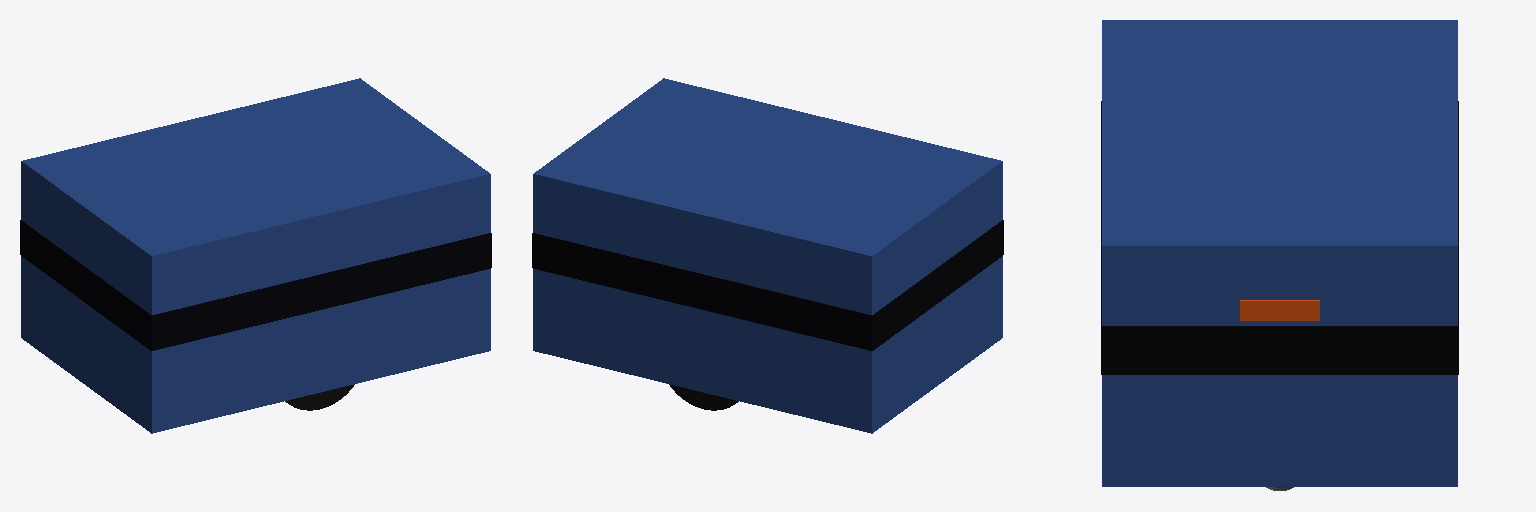
The robot description file, URDF, robot "amr":
<?xml version="1.0" ?>
<!--
  차동 구동 AMR 최상위 xacro (명세 4장 1절 "로봇 모델링"/"센서 시스템 구성", 4장 2절 TF)

  모든 치수/질량/관성/동역학 제한/구동계/센서 사양/토픽·프레임 이름은 최상위 config/*.yaml 에서 읽는다
  (xacro.load_yaml). 여기에 숫자를 중복 기재하지 않는다 — YAML 을 고치면 재빌드 없이 재런치만으로
  반영된다 (런치 시점에 xacro 가 다시 평가됨).

  xacro 인자
    robot_name   Gazebo 모델 이름 + gz 토픽 접두어 (/<robot_name>/...)            기본 amr_01
    prefix       모든 link/joint/frame 이름과 <ignition_frame_id> 의 접두어      기본 ""
                 (다중 로봇: "amr_02/" — docs/architecture/multi_robot.md §2)
    config_dir   robot_params.yaml / sensors.yaml 이 있는 디렉토리
                 기본 "" → $ROS_WS/config (ROS_WS 미설정 시 /ros2_ws/config)
    payload      적재물 종류 none | small | medium | large                       기본 none
                 크기·질량은 robot_params.yaml payload.<종류>.{size, mass} — 데크 위 실제 크기 박스
    payload_mass 적재 질량 [kg] 덮어쓰기. 음수(기본 -1)면 payload 종류의 질량.
                 payload 없이 질량만 주면 그 질량을 담을 수 있는 가장 작은 종류의 박스로 모델링한다
                 (예 payload_mass:=25 → large 박스). 0 이면 적재물 없음.
                 payload / payload_mass 는 스폰 시점에 고정되는 적재물이다 (정적 시험용)
    runtime_payload
                 true(기본)면 주행 중 적재/하역용 DetachableJoint 를 넣는다 (amr_gazebo.xacro "런타임 적재물").
                 화물 모델 <robot_name>_cargo 를 amr_simulation payload_manager_node 가 데크 위에 만들고 붙인다
    self_visibility_bit
                 자기 차체 시각체의 가시성 비트 번호 (0~27). 기본 "" → robot_name 끝 숫자 n 에서
                 4 + (n − 1) mod 20 (amr_01 → 4, amr_05 → 8). amr_gazebo.xacro "자기 차체 제외" 참조

  모듈
    amr_inertial.xacro   관성 텐서 매크로 (YAML 대각 성분 / 박스 해석식)
    amr_materials.xacro  RViz/Gazebo 재질
    amr_base.xacro       base_footprint, base_link, 구동 바퀴, 캐스터, cargo_link(+스폰 시점 적재 박스)
    amr_sensors.xacro    lidar_link, camera_link(+optical 프레임 2개), imu_link
    amr_gazebo.xacro     Gazebo Fortress 시스템 플러그인(런타임 적재 DetachableJoint 포함) + 센서 정의
                         + 자기 차체 가시성 비트

  단독 실행 예
    xacro amr.urdf.xacro config_dir:=/ros2_ws/config robot_name:=amr_02 prefix:=amr_02/ payload:=large | check_urdf /dev/stdin
-->
<robot name="amr">
  <!-- 데크(차체 상면), base_link 기준 -->
  <material name="amr_body">
    <color rgba="0.20 0.32 0.55 1.0"/>
  </material>
  <material name="amr_wheel">
    <color rgba="0.10 0.10 0.10 1.0"/>
  </material>
  <material name="amr_caster">
    <color rgba="0.45 0.45 0.45 1.0"/>
  </material>
  <material name="amr_sensor">
    <color rgba="0.85 0.35 0.10 1.0"/>
  </material>
  <material name="amr_sensor_window">
    <color rgba="0.06 0.06 0.08 1.0"/>
  </material>
  <material name="amr_cargo">
    <color rgba="0.72 0.55 0.30 1.0"/>
  </material>
  <link name="base_footprint"/>
  <joint name="base_footprint_joint" type="fixed">
    <parent link="base_footprint"/>
    <child link="base_link"/>
    <origin rpy="0 0 0" xyz="0 0 0.18"/>
  </joint>
  <!-- 차체: 박스 중심 = base_link 원점. 질량 base_mass 는 차체만 (총 공차 = base + 바퀴 2 + 캐스터 2) -->
  <link name="base_link">
    <visual>
      <origin rpy="0 0 0" xyz="0 0 0"/>
      <geometry>
        <box size="0.6 0.4 0.3"/>
      </geometry>
      <material name="amr_body"/>
    </visual>
    <!--
        LiDAR 창(슬롯) 띠: 스캔 평면 ±3 cm 높이로 차체를 두르는 어두운 창 (외관 표시). 차체보다 2 mm 크게 둬
        면이 겹쳐 깜박이지 않게 한다. 다른 로봇의 LiDAR 에는 차체 외곽으로 보인다 (자기 LiDAR 는 가시성 비트로 제외).
      -->
    <visual>
      <origin rpy="0 0 0" xyz="0 0 0.02"/>
      <geometry>
        <box size="0.602 0.402 0.06"/>
      </geometry>
      <material name="amr_sensor_window"/>
    </visual>
    <collision>
      <origin rpy="0 0 0" xyz="0 0 0"/>
      <geometry>
        <box size="0.6 0.4 0.3"/>
      </geometry>
    </collision>
    <inertial>
      <origin rpy="0 0 0" xyz="0 0 0"/>
      <mass value="45.0"/>
      <inertia ixx="0.9375" ixy="0.0" ixz="0.0" iyy="1.6875" iyz="0.0" izz="1.95"/>
    </inertial>
  </link>
  <joint name="left_wheel_joint" type="continuous">
    <parent link="base_link"/>
    <child link="left_wheel_link"/>
    <origin rpy="0 0 0" xyz="0 0.18 -0.09749999999999999"/>
    <axis xyz="0 1 0"/>
    <!-- 모터·감속기 한계 (robot_params.yaml drive). DiffDrive 의 바퀴 속도 서보가 이 토크 이상을 못 낸다 -->
    <limit effort="3.0" velocity="28.0"/>
  </joint>
  <link name="left_wheel_link">
    <visual>
      <origin rpy="1.5707963267948966 0 0" xyz="0 0 0"/>
      <geometry>
        <cylinder length="0.035" radius="0.0825"/>
      </geometry>
      <material name="amr_wheel"/>
    </visual>
    <!-- 충돌은 얇은 원판 (wheel_contact_width, amr.urdf.xacro 주석) — 접지점을 바퀴 중심면에 고정 -->
    <collision>
      <origin rpy="1.5707963267948966 0 0" xyz="0 0 0"/>
      <geometry>
        <cylinder length="0.002" radius="0.0825"/>
      </geometry>
    </collision>
    <inertial>
      <origin rpy="0 0 0" xyz="0 0 0"/>
      <mass value="1.0"/>
      <inertia ixx="0.0018" ixy="0.0" ixz="0.0" iyy="0.0034" iyz="0.0" izz="0.0018"/>
    </inertial>
  </link>
  <joint name="right_wheel_joint" type="continuous">
    <parent link="base_link"/>
    <child link="right_wheel_link"/>
    <origin rpy="0 0 0" xyz="0 -0.18 -0.09749999999999999"/>
    <axis xyz="0 1 0"/>
    <!-- 모터·감속기 한계 (robot_params.yaml drive). DiffDrive 의 바퀴 속도 서보가 이 토크 이상을 못 낸다 -->
    <limit effort="3.0" velocity="28.0"/>
  </joint>
  <link name="right_wheel_link">
    <visual>
      <origin rpy="1.5707963267948966 0 0" xyz="0 0 0"/>
      <geometry>
        <cylinder length="0.035" radius="0.0825"/>
      </geometry>
      <material name="amr_wheel"/>
    </visual>
    <!-- 충돌은 얇은 원판 (wheel_contact_width, amr.urdf.xacro 주석) — 접지점을 바퀴 중심면에 고정 -->
    <collision>
      <origin rpy="1.5707963267948966 0 0" xyz="0 0 0"/>
      <geometry>
        <cylinder length="0.002" radius="0.0825"/>
      </geometry>
    </collision>
    <inertial>
      <origin rpy="0 0 0" xyz="0 0 0"/>
      <mass value="1.0"/>
      <inertia ixx="0.0018" ixy="0.0" ixz="0.0" iyy="0.0034" iyz="0.0" izz="0.0018"/>
    </inertial>
  </link>
  <joint name="front_caster_joint" type="fixed">
    <parent link="base_link"/>
    <child link="front_caster_link"/>
    <origin rpy="0 0 0" xyz="0.24 0 -0.15"/>
  </joint>
  <link name="front_caster_link">
    <visual>
      <geometry>
        <sphere radius="0.03"/>
      </geometry>
      <material name="amr_caster"/>
    </visual>
    <collision>
      <geometry>
        <sphere radius="0.03"/>
      </geometry>
    </collision>
    <inertial>
      <origin rpy="0 0 0" xyz="0 0 0"/>
      <mass value="0.3"/>
      <inertia ixx="0.000108" ixy="0.0" ixz="0.0" iyy="0.000108" iyz="0.0" izz="0.000108"/>
    </inertial>
  </link>
  <joint name="rear_caster_joint" type="fixed">
    <parent link="base_link"/>
    <child link="rear_caster_link"/>
    <origin rpy="0 0 0" xyz="-0.24 0 -0.15"/>
  </joint>
  <link name="rear_caster_link">
    <visual>
      <geometry>
        <sphere radius="0.03"/>
      </geometry>
      <material name="amr_caster"/>
    </visual>
    <collision>
      <geometry>
        <sphere radius="0.03"/>
      </geometry>
    </collision>
    <inertial>
      <origin rpy="0 0 0" xyz="0 0 0"/>
      <mass value="0.3"/>
      <inertia ixx="0.000108" ixy="0.0" ixz="0.0" iyy="0.000108" iyz="0.0" izz="0.000108"/>
    </inertial>
  </link>
  <!--
      적재물. 스폰 시점의 xacro 인자(payload / payload_mass)로 정해진다 — 크기·질량은 robot_params.yaml payload.<종류>.
      명세 8장 물품 표의 실제 크기 박스를 데크 중앙(x = 0, 구동축 위)에 올리고 균질 박스 관성을 준다. fixed 조인트라
      sdformat 이 URDF 루트 링크(base_footprint)에 질량·관성·무게중심을 합산해 Gazebo 동역학에 그대로 들어간다.
      바퀴 토크 한계(drive.wheel_effort_limit)가 있으므로 합산 질량이 가속·제동 응답을 바꾼다 (robot_params.yaml drive 실측).
      적재물이 없으면 형상·관성 없는 빈 프레임만 남는다 (TF 의 cargo_link 는 항상 있다).
      이것은 스폰 시점에 고정되는 적재물이다. 주행 중 적재/하역(재스폰 없이)은 이 링크가 아니라 별도 화물 모델
      <robot_name>_cargo 를 DetachableJoint 로 붙였다 떼는 방식이다 (amr_gazebo.xacro "런타임 적재물",
      amr_simulation payload_manager_node). 둘을 함께 쓰면 질량이 더해지므로 런타임 적재를 쓸 때는 payload 를 비운다.
    -->
  <joint name="cargo_joint" type="fixed">
    <parent link="base_link"/>
    <child link="cargo_link"/>
    <origin rpy="0 0 0" xyz="0 0 0.15"/>
  </joint>
  <link name="cargo_link">
  </link>
  <!-- 2D LiDAR -->
  <joint name="lidar_joint" type="fixed">
    <parent link="base_link"/>
    <child link="lidar_link"/>
    <origin rpy="0.0 0.0 0.0" xyz="0.15 0.0 0.02"/>
  </joint>
  <link name="lidar_link">
    <visual>
      <geometry>
        <cylinder length="0.04" radius="0.035"/>
      </geometry>
      <material name="amr_sensor"/>
    </visual>
  </link>
  <!-- RGB + Depth 카메라 모듈 본체 프레임 -->
  <joint name="camera_joint" type="fixed">
    <parent link="base_link"/>
    <child link="camera_link"/>
    <origin rpy="0.0 0.0 0.0" xyz="0.29 0.0 0.07"/>
  </joint>
  <link name="camera_link">
    <visual>
      <geometry>
        <box size="0.025 0.09 0.025"/>
      </geometry>
      <material name="amr_sensor"/>
    </visual>
  </link>
  <!-- optical 프레임: rgb/depth 블록의 link_frame_id(= camera_link) 의 고정 자식 -->
  <joint name="camera_optical_joint" type="fixed">
    <parent link="camera_link"/>
    <child link="camera_optical_frame"/>
    <origin rpy="-1.5707963 0.0 -1.5707963" xyz="0 0 0"/>
  </joint>
  <link name="camera_optical_frame"/>
  <joint name="camera_depth_optical_joint" type="fixed">
    <parent link="camera_link"/>
    <child link="camera_depth_optical_frame"/>
    <origin rpy="-1.5707963 0.0 -1.5707963" xyz="0 0 0"/>
  </joint>
  <link name="camera_depth_optical_frame"/>
  <!-- IMU -->
  <joint name="imu_joint" type="fixed">
    <parent link="base_link"/>
    <child link="imu_link"/>
    <origin rpy="0.0 0.0 0.0" xyz="0.0 0.0 0.1"/>
  </joint>
  <link name="imu_link">
    <visual>
      <geometry>
        <box size="0.02 0.02 0.008"/>
      </geometry>
      <material name="amr_sensor"/>
    </visual>
  </link>
  <gazebo reference="base_link">
    <visual>
      <visibility_flags>16</visibility_flags>
    </visual>
  </gazebo>
  <gazebo reference="left_wheel_link">
    <visual>
      <visibility_flags>16</visibility_flags>
    </visual>
  </gazebo>
  <gazebo reference="right_wheel_link">
    <visual>
      <visibility_flags>16</visibility_flags>
    </visual>
  </gazebo>
  <gazebo reference="front_caster_link">
    <visual>
      <visibility_flags>16</visibility_flags>
    </visual>
  </gazebo>
  <gazebo reference="rear_caster_link">
    <visual>
      <visibility_flags>16</visibility_flags>
    </visual>
  </gazebo>
  <gazebo reference="lidar_link">
    <visual>
      <visibility_flags>16</visibility_flags>
    </visual>
  </gazebo>
  <gazebo reference="camera_link">
    <visual>
      <visibility_flags>16</visibility_flags>
    </visual>
  </gazebo>
  <gazebo reference="imu_link">
    <visual>
      <visibility_flags>16</visibility_flags>
    </visual>
  </gazebo>
  <!-- ===== 접촉 마찰 (robot_params.yaml robot.*_friction_coeff). 캐스터는 낮은 mu 로 미끄러지는 구 근사 ===== -->
  <gazebo reference="left_wheel_link">
    <mu1>1.0</mu1>
    <mu2>1.0</mu2>
  </gazebo>
  <gazebo reference="right_wheel_link">
    <mu1>1.0</mu1>
    <mu2>1.0</mu2>
  </gazebo>
  <gazebo reference="front_caster_link">
    <mu1>0.05</mu1>
    <mu2>0.05</mu2>
  </gazebo>
  <gazebo reference="rear_caster_link">
    <mu1>0.05</mu1>
    <mu2>0.05</mu2>
  </gazebo>
  <gazebo>
    <!--
        차동 구동 (모터 드라이버 = 컨트롤러 한계). 속도/가속도 제한은 robot_params.yaml limits (Fortress DiffDrive 의
        min/max_linear|angular_velocity|acceleration). 물리 한계는 바퀴 조인트 토크/속도 한계(drive.*, amr_base.xacro)가
        따로 걸어 적재 질량이 크면 이 한계보다 늦게 가속·제동한다.
        감속 한계(min_linear_acceleration)는 정상 감속 1.0 이 아니라 비상 감속 limits.emergency_deceleration 이다 (결정):
        정상 감속 프로파일은 velocity_profiler_node 가 지키고, E-Stop 은 safety_node 가 프로파일을 우회해 0 을 내므로
        여기서 1.0 으로 묶으면 E-Stop 도 2.0 m/s 에서 2 m 를 미끄러진다. 한계가 부호 기준이라 후진 가속에도 적용된다.
        odom 은 /<robot_name>/odom_gz 로만 내보내며(비교용), 이 플러그인의 tf(gz /<robot_name>/odom_gz/tf)는
        기본으로 ROS 에 브리지하지 않는다 — odom→base_footprint TF 는 EKF 가 발행한다. EKF 가 생기기 전 초기 매핑에만
        spawn.launch.py bridge_odom_tf:=true 로 /tf 에 넘긴다 (EKF 와 동시 사용 금지).

        저크 제한(max_linear_jerk)은 여기 넣지 않는다 (결정). Fortress DiffDrive 의 SpeedLimiter 는 목표를
        내다보지 않고 저크만 자르기 때문에 목표 속도 근처에서 감속을 늦게 시작해 ±a²/(2j) 로 계속 진동한다
        (a = 1.0, j = 2.0 → ±0.25 m/s, 주기 ≈ 2 s). 실측(지면 진실): 0.5 m/s 지령에 0.257 ~ 0.745 m/s 로 계속
        진동, 0 지령에서도 |v| 최대 0.245 m/s 로 앞뒤로 흔들려 멈추지 않음. 저크 제한을 빼면 0.500 m/s 정확히
        유지, 정지 잔속 0. 저크 제한 S-curve 는 명세 5장 구현 대상인 amr_navigation velocity_profiler_node
        (cmd_vel_nav → cmd_vel_smoothed)가 담당한다.
        재현하려면 아래에 <max_linear_jerk>/<min_linear_jerk> 를 limits.max_linear_jerk 로 다시 넣으면 된다.
      -->
    <plugin filename="ignition-gazebo-diff-drive-system" name="ignition::gazebo::systems::DiffDrive">
      <left_joint>left_wheel_joint</left_joint>
      <right_joint>right_wheel_joint</right_joint>
      <wheel_separation>0.36</wheel_separation>
      <wheel_radius>0.0825</wheel_radius>
      <topic>/amr_01/cmd_vel</topic>
      <odom_topic>/amr_01/odom_gz</odom_topic>
      <tf_topic>/amr_01/odom_gz/tf</tf_topic>
      <frame_id>odom</frame_id>
      <child_frame_id>base_footprint</child_frame_id>
      <odom_publish_frequency>50.0</odom_publish_frequency>
      <max_linear_velocity>2.0</max_linear_velocity>
      <min_linear_velocity>-0.5</min_linear_velocity>
      <max_angular_velocity>1.5</max_angular_velocity>
      <min_angular_velocity>-1.5</min_angular_velocity>
      <max_linear_acceleration>1.0</max_linear_acceleration>
      <min_linear_acceleration>-3.0</min_linear_acceleration>
      <max_angular_acceleration>2.0</max_angular_acceleration>
      <min_angular_acceleration>-2.0</min_angular_acceleration>
    </plugin>
    <!-- 바퀴 관절 상태 → /<robot_name>/joint_states (robot_state_publisher 바퀴 TF + 팀 엔코더 노드 입력) -->
    <plugin filename="ignition-gazebo-joint-state-publisher-system" name="ignition::gazebo::systems::JointStatePublisher">
      <topic>/amr_01/joint_states</topic>
      <joint_name>left_wheel_joint</joint_name>
      <joint_name>right_wheel_joint</joint_name>
    </plugin>
    <!-- 지면 진실(ground truth) 오도메트리 — 위치 추정 평가 전용 (header.frame_id = world, child = base_footprint) -->
    <plugin filename="ignition-gazebo-odometry-publisher-system" name="ignition::gazebo::systems::OdometryPublisher">
      <odom_frame>world</odom_frame>
      <robot_base_frame>base_footprint</robot_base_frame>
      <odom_topic>/amr_01/ground_truth/odom</odom_topic>
      <tf_topic>/amr_01/ground_truth/tf_unused</tf_topic>
      <odom_publish_frequency>50.0</odom_publish_frequency>
      <dimensions>3</dimensions>
    </plugin>
  </gazebo>
  <gazebo>
    <plugin filename="ignition-gazebo-detachable-joint-system" name="ignition::gazebo::systems::DetachableJoint">
      <parent_link>base_footprint</parent_link>
      <child_model>amr_01_cargo</child_model>
      <child_link>link</child_link>
      <attach_topic>/amr_01/cargo/attach</attach_topic>
      <detach_topic>/amr_01/cargo/detach</detach_topic>
      <output_topic>/amr_01/cargo/state</output_topic>
      <suppress_child_warning>true</suppress_child_warning>
    </plugin>
  </gazebo>
  <!-- ===== 2D LiDAR (gpu_lidar) ===== -->
  <!-- angle_max 는 YAML 값을 그대로 쓴다: samples 개 빔이 [angle_min, angle_max] 를 등분한다
         (증분 = (max-min)/(samples-1)). 0.5° 정확 증분은 YAML 쪽에서 angle_max = π - 2π/720 로 맞춘다 -->
  <gazebo reference="lidar_link">
    <sensor name="lidar" type="gpu_lidar">
      <pose>0 0 0 0 0 0</pose>
      <topic>/amr_01/scan</topic>
      <update_rate>10.0</update_rate>
      <always_on>true</always_on>
      <visualize>false</visualize>
      <ignition_frame_id>lidar_link</ignition_frame_id>
      <lidar>
        <scan>
          <horizontal>
            <samples>720</samples>
            <resolution>1</resolution>
            <min_angle>-3.14159265</min_angle>
            <max_angle>3.13286601</max_angle>
          </horizontal>
        </scan>
        <range>
          <min>0.1</min>
          <max>25.0</max>
        </range>
        <!-- SDF 1.9: lidar/camera 의 noise 는 <type> 자식 요소 (IMU 의 noise 만 type 속성) -->
        <noise>
          <type>gaussian</type>
          <mean>0.0</mean>
          <stddev>0.03</stddev>
        </noise>
        <!-- 자기 차체 제외 (머리말). 차체 안 슬롯에 있으므로 이것이 없으면 모든 빔이 차체 안쪽 면에 맞는다 -->
        <visibility_mask>4294967279</visibility_mask>
      </lidar>
    </sensor>
  </gazebo>
  <!-- ===== 카메라 (RGB + Depth, 같은 camera_link 에 센서 2개) ===== -->
  <!--
      ignition_frame_id 는 optical 프레임 → 이미지/camera_info header 가 REP-103 광학 규약과 일치.
      Fortress 함정(실측): depth_camera 의 점군(<topic>/points)은 header.frame_id 가 optical 인데 좌표는 센서
      본체 규약(x 전방, y 좌, z 상)으로 채워진다 — 전방 5 m 벽이 점군에서 x≈4.8 로 나온다. 그대로 TF 변환하면
      90° 돌아간다. 점군은 깊이 이미지 + camera_info 로 프로젝트가 직접 만들고(명세 2장), 시뮬레이터 점군을
      쓰려면 소비 측에서 frame_id 를 camera_link 로 바꿔 읽는다 (sensors.yaml depth_camera 주석 참조).
    -->
  <gazebo reference="camera_link">
    <sensor name="rgb_camera" type="camera">
      <pose>0 0 0 0 0 0</pose>
      <topic>/amr_01/camera/image_raw</topic>
      <update_rate>30.0</update_rate>
      <always_on>true</always_on>
      <visualize>false</visualize>
      <ignition_frame_id>camera_optical_frame</ignition_frame_id>
      <camera name="rgb_camera">
        <horizontal_fov>1.518436</horizontal_fov>
        <image>
          <width>640</width>
          <height>480</height>
          <format>R8G8B8</format>
        </image>
        <clip>
          <near>0.05</near>
          <far>100.0</far>
        </clip>
        <!-- 렌즈가 전면 창 1 cm 안쪽이라 차체 전면이 near clip 안에 들지만, 자기 차체는 규칙대로 뺀다 -->
        <visibility_mask>4294967279</visibility_mask>
        <noise>
          <type>gaussian</type>
          <mean>0.0</mean>
          <stddev>0.062</stddev>
        </noise>
      </camera>
    </sensor>
    <!-- 깊이 노이즈: Fortress 는 거리 무관 가우시안만 지원 → noise_base 만 센서에 적용하고,
           거리 제곱 항(noise_quadratic_coeff)은 amr_perception 깊이 전처리 노드가 더한다 (sensors.yaml 결정) -->
    <sensor name="depth_camera" type="depth_camera">
      <pose>0 0 0 0 0 0</pose>
      <topic>/amr_01/camera/depth/image_raw</topic>
      <update_rate>15.0</update_rate>
      <always_on>true</always_on>
      <visualize>false</visualize>
      <ignition_frame_id>camera_depth_optical_frame</ignition_frame_id>
      <camera name="depth_camera">
        <horizontal_fov>1.518436</horizontal_fov>
        <image>
          <width>640</width>
          <height>480</height>
          <format>R_FLOAT32</format>
        </image>
        <clip>
          <near>0.2</near>
          <far>10.0</far>
        </clip>
        <visibility_mask>4294967279</visibility_mask>
        <depth_camera>
          <clip>
            <near>0.2</near>
            <far>10.0</far>
          </clip>
        </depth_camera>
        <noise>
          <type>gaussian</type>
          <mean>0.0</mean>
          <stddev>0.005</stddev>
        </noise>
      </camera>
    </sensor>
  </gazebo>
  <!-- ===== IMU ===== -->
  <!--
      enable_orientation=true 로 둔다(결정): Fortress IMU 의 orientation 은 노이즈/드리프트 없는 지면 진실이며,
      기준은 월드가 아니라 센서의 "스폰 시점 자세"다 (yaw=1.57 로 스폰한 로봇도 초기 yaw 0 으로 나온다 — 실측).
      false 로 끄면 브리지가 w=0 인 무효 쿼터니언을 내보내 소비 노드가 깨질 수 있어 켜 둔다.
      따라서 EKF(config/ekf.yaml) 는 imu 의 roll/pitch/yaw 를 융합하면 안 되고 angular_velocity /
      linear_acceleration 만 써야 한다. 노이즈+바이어스 모델은 그 두 값에만 적용된다.
      참고: SDF 월드 기본 중력은 9.8 m/s² (9.80665 아님) — 정지 시 accel z 평균 ≈ 9.8 + bias.
    -->
  <gazebo reference="imu_link">
    <sensor name="imu" type="imu">
      <pose>0 0 0 0 0 0</pose>
      <topic>/amr_01/imu/data_raw</topic>
      <update_rate>100.0</update_rate>
      <always_on>true</always_on>
      <visualize>false</visualize>
      <ignition_frame_id>imu_link</ignition_frame_id>
      <imu>
        <enable_orientation>true</enable_orientation>
        <angular_velocity>
          <x>
            <noise type="gaussian">
              <mean>0.0</mean>
              <stddev>0.0002</stddev>
              <bias_mean>0.01</bias_mean>
              <bias_stddev>7.5e-06</bias_stddev>
              <dynamic_bias_stddev>0.0</dynamic_bias_stddev>
              <dynamic_bias_correlation_time>300.0</dynamic_bias_correlation_time>
            </noise>
          </x>
          <y>
            <noise type="gaussian">
              <mean>0.0</mean>
              <stddev>0.0002</stddev>
              <bias_mean>0.01</bias_mean>
              <bias_stddev>7.5e-06</bias_stddev>
              <dynamic_bias_stddev>0.0</dynamic_bias_stddev>
              <dynamic_bias_correlation_time>300.0</dynamic_bias_correlation_time>
            </noise>
          </y>
          <z>
            <noise type="gaussian">
              <mean>0.0</mean>
              <stddev>0.0002</stddev>
              <bias_mean>0.01</bias_mean>
              <bias_stddev>7.5e-06</bias_stddev>
              <dynamic_bias_stddev>0.0</dynamic_bias_stddev>
              <dynamic_bias_correlation_time>300.0</dynamic_bias_correlation_time>
            </noise>
          </z>
        </angular_velocity>
        <linear_acceleration>
          <x>
            <noise type="gaussian">
              <mean>0.0</mean>
              <stddev>0.017</stddev>
              <bias_mean>0.1</bias_mean>
              <bias_stddev>0.001</bias_stddev>
              <dynamic_bias_stddev>0.0</dynamic_bias_stddev>
              <dynamic_bias_correlation_time>300.0</dynamic_bias_correlation_time>
            </noise>
          </x>
          <y>
            <noise type="gaussian">
              <mean>0.0</mean>
              <stddev>0.017</stddev>
              <bias_mean>0.1</bias_mean>
              <bias_stddev>0.001</bias_stddev>
              <dynamic_bias_stddev>0.0</dynamic_bias_stddev>
              <dynamic_bias_correlation_time>300.0</dynamic_bias_correlation_time>
            </noise>
          </y>
          <z>
            <noise type="gaussian">
              <mean>0.0</mean>
              <stddev>0.017</stddev>
              <bias_mean>0.1</bias_mean>
              <bias_stddev>0.001</bias_stddev>
              <dynamic_bias_stddev>0.0</dynamic_bias_stddev>
              <dynamic_bias_correlation_time>300.0</dynamic_bias_correlation_time>
            </noise>
          </z>
        </linear_acceleration>
      </imu>
    </sensor>
  </gazebo>
</robot>

--- What the picture shows (computed from the rendered views, not written in the file) ---
3 views of the same robot in one strip: view 1: azimuth 30°, elevation 25°; view 2: azimuth 150°, elevation 25°; view 3: azimuth 270°, elevation 25° (orthographic).
Model amr with 12 links and 11 joints (2 continuous, 9 fixed), rooted at base_footprint, posed every joint at zero.
Links seen in each view (by area): view 1: base_link, right_wheel_link; view 2: base_link, left_wheel_link; view 3: base_link, camera_link.
Link boxes in pixels (x1=…): base_link: x1=20, y1=78, x2=491, y2=433; right_wheel_link: x1=285, y1=384, x2=354, y2=410; base_link: x1=532, y1=78, x2=1003, y2=433; left_wheel_link: x1=669, y1=384, x2=738, y2=410; base_link: x1=1101, y1=20, x2=1458, y2=486; camera_link: x1=1240, y1=300, x2=1319, y2=320.
Bounding box of the posed robot: 0.6035 × 0.402 × 0.33 m (x, y, z).
Geometry: primitives only (box / cylinder / sphere), no mesh files.
